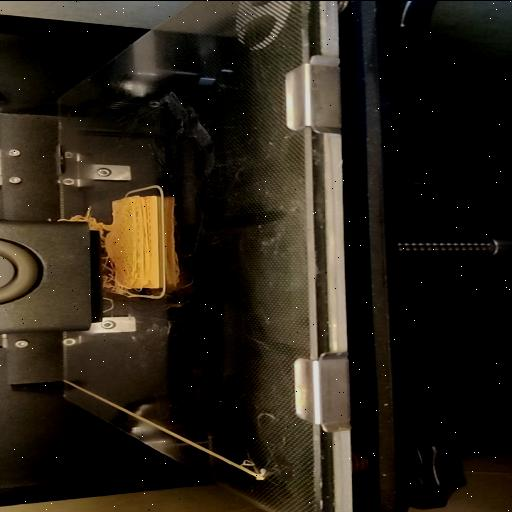spaghetti: (96, 240, 120, 309), (54, 206, 94, 218)
